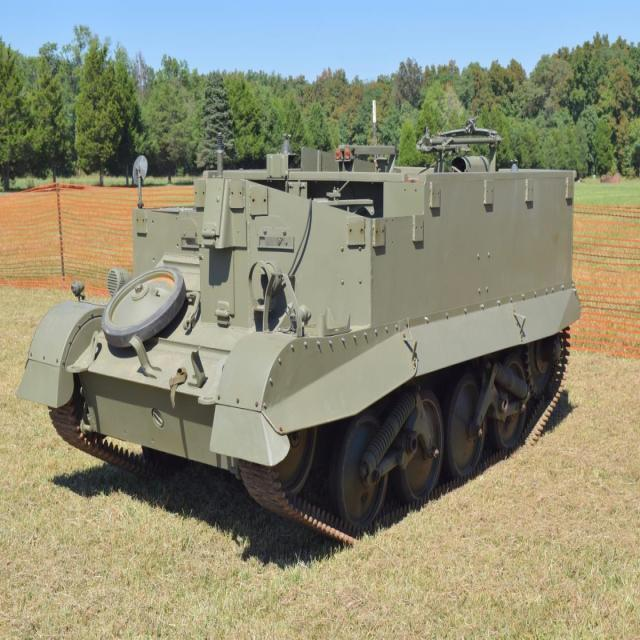MIL_MBT: (17, 102, 604, 560)
